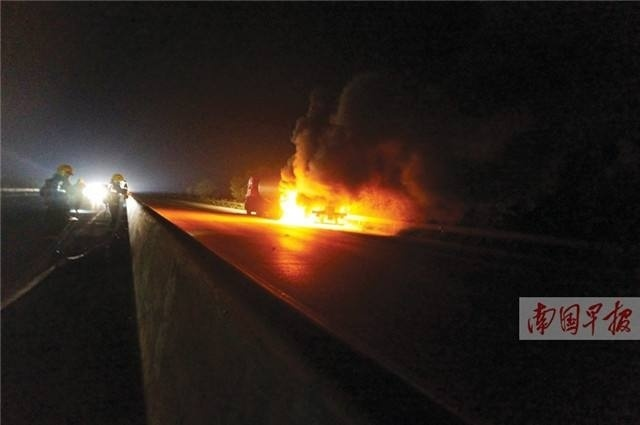fire: (276, 172, 346, 226)
